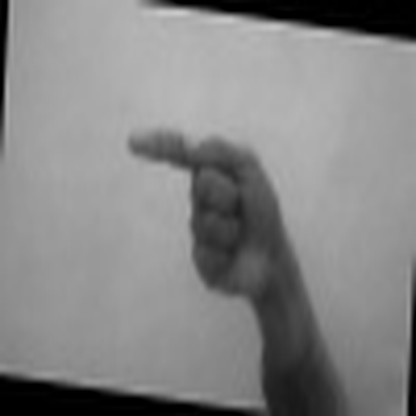g: (106, 117, 309, 306)
